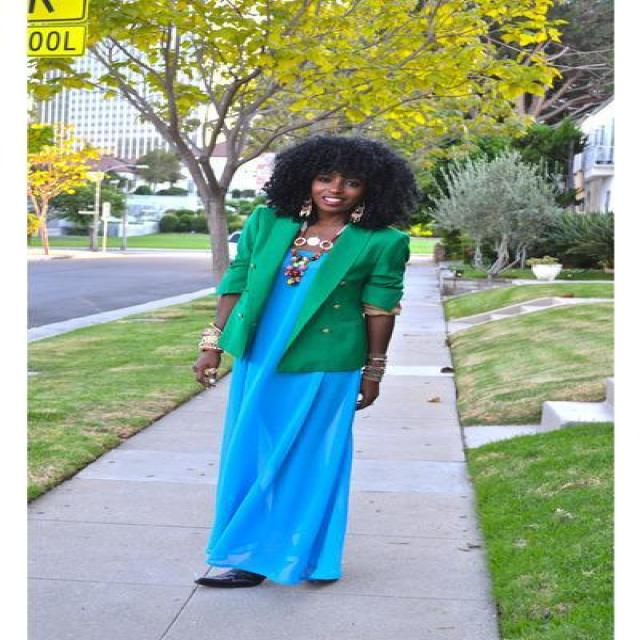dress: (206, 243, 364, 584)
jacket: (216, 207, 416, 373)
shoe: (211, 569, 338, 590)
